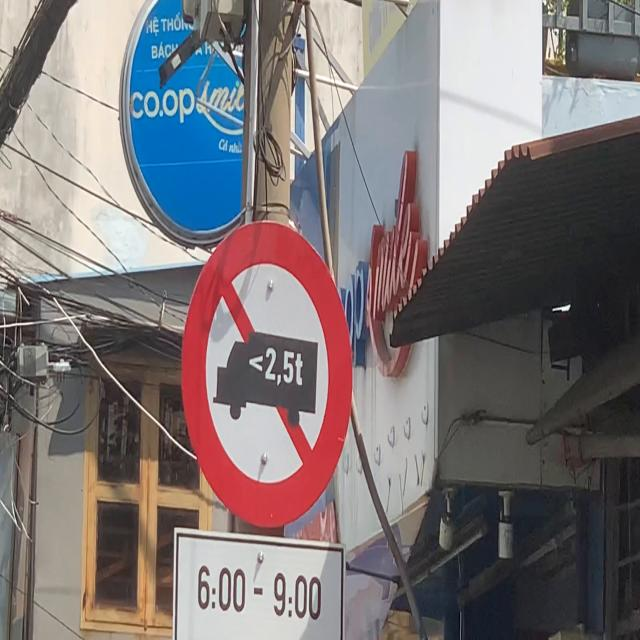Cam con lai: (182, 209, 354, 525)
